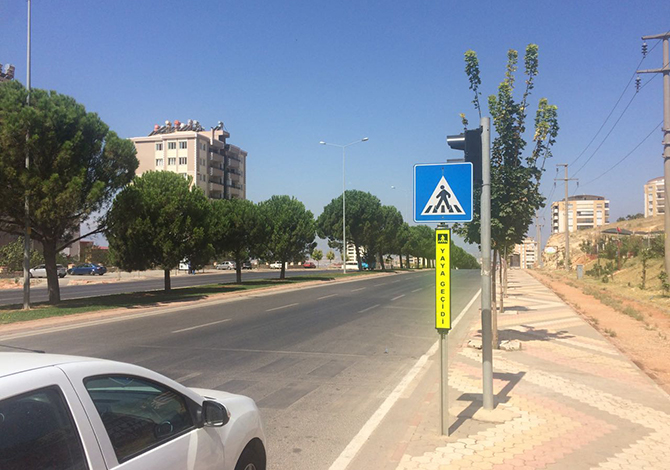otomobil: (0, 330, 309, 469)
yaya_gecidi: (410, 162, 477, 227)
